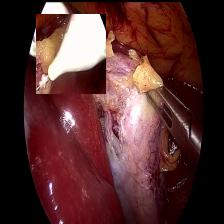Grasper: (143, 76, 202, 161)
Hook: (34, 12, 104, 92)
